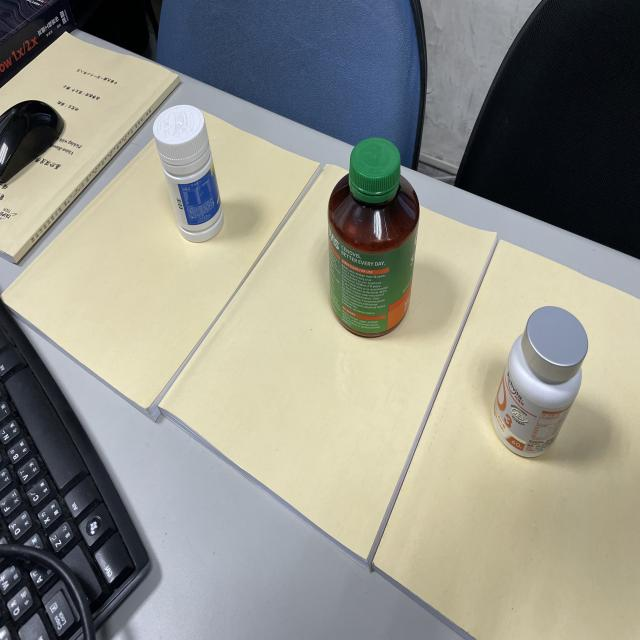Medicine-Jar: (307, 146, 430, 334), (498, 302, 586, 468), (140, 112, 238, 245)
